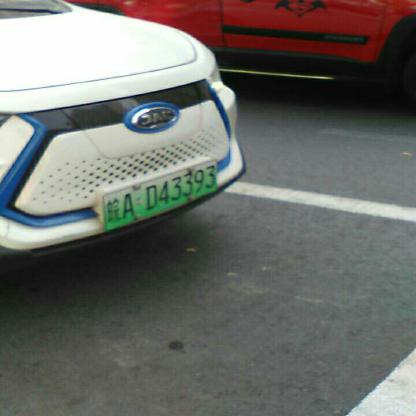lp: (103, 159, 218, 230)
